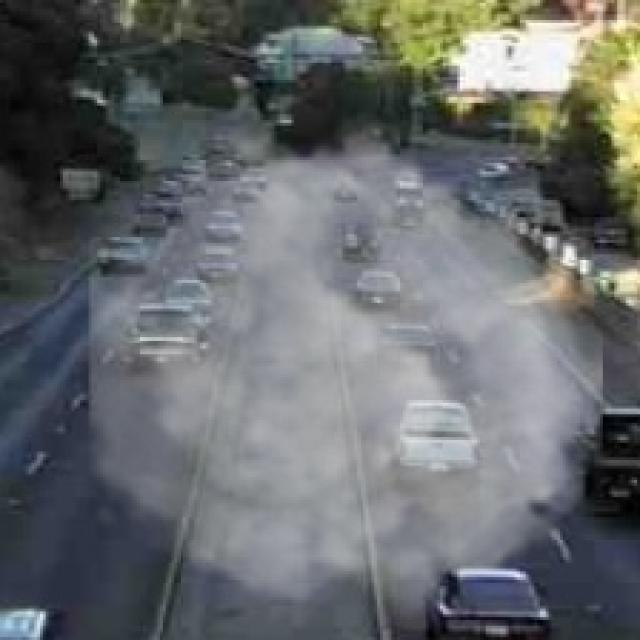smoke: (88, 106, 603, 637)
